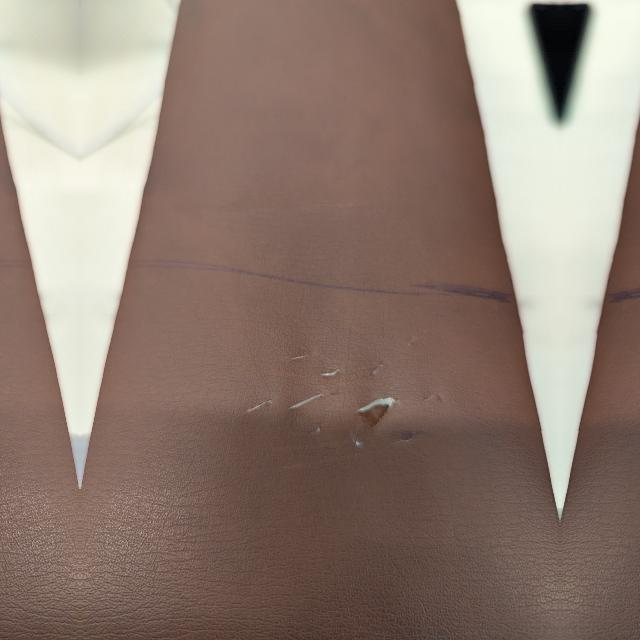belt_crack: (244, 317, 505, 465), (615, 317, 640, 465)
